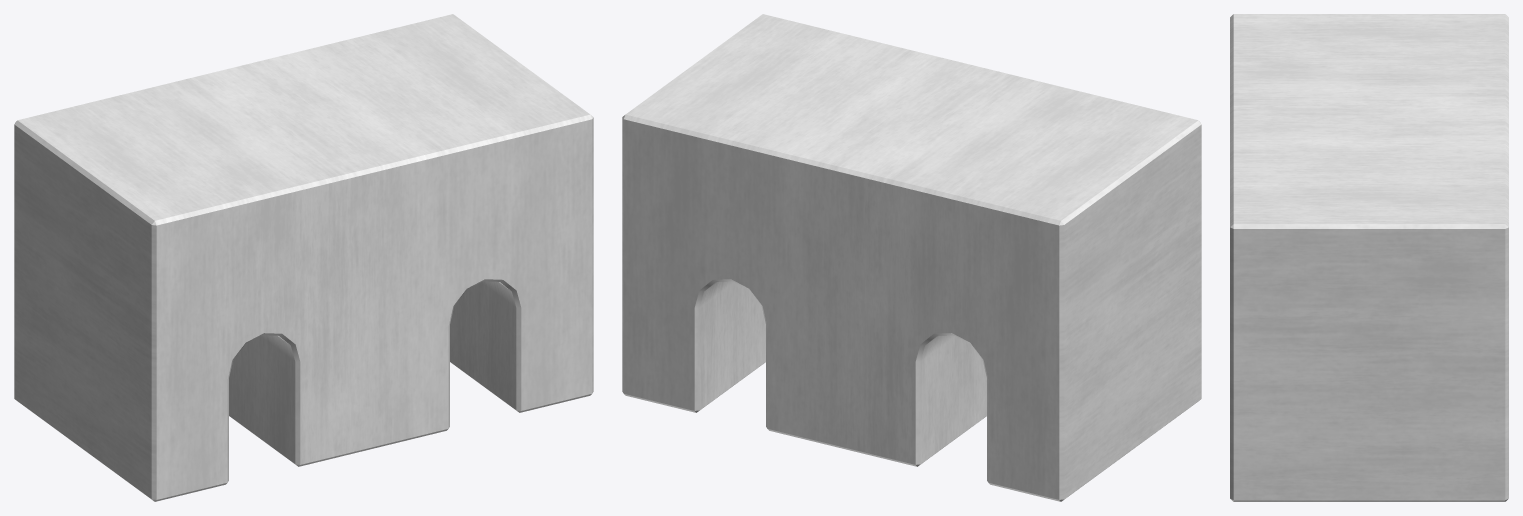
The model's file is houseblock4-1.fbx.
The picture shows the model from 3 angles, left to right: view 1: azimuth 30°, elevation 25°; view 2: azimuth 150°, elevation 25°; view 3: azimuth 270°, elevation 25°; orthographic projection.
Parts seen in each view (by area): view 1: houseblock4; view 2: houseblock4; view 3: houseblock4.
Part boxes in pixels (left/top/right/bottom): houseblock4: left=14, top=14, right=593, bottom=501; houseblock4: left=622, top=14, right=1201, bottom=501; houseblock4: left=1230, top=14, right=1508, bottom=501.
Size of the model in its own units: 1.78 by 1.08 by 0.9853.
